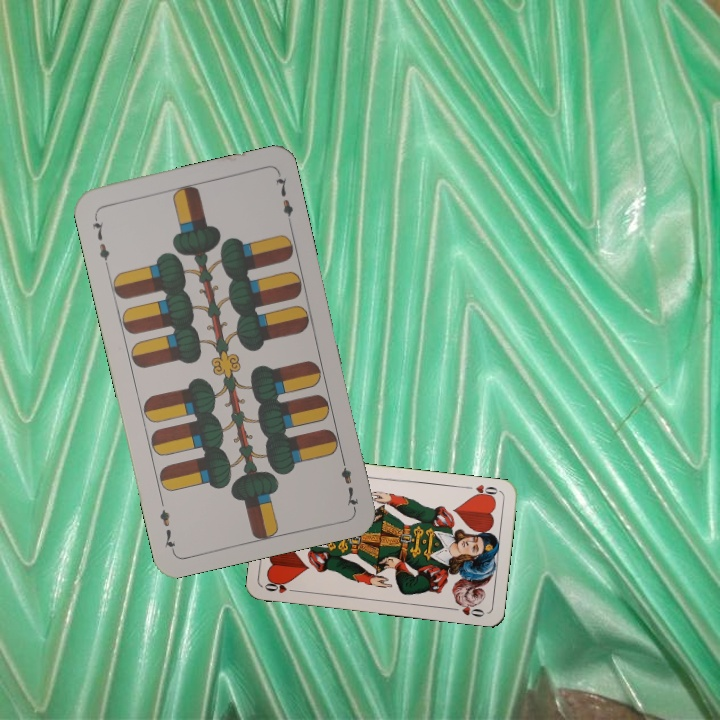E7: (88, 211, 113, 270), (337, 452, 361, 511)
HO: (461, 481, 502, 501), (260, 577, 301, 596)
